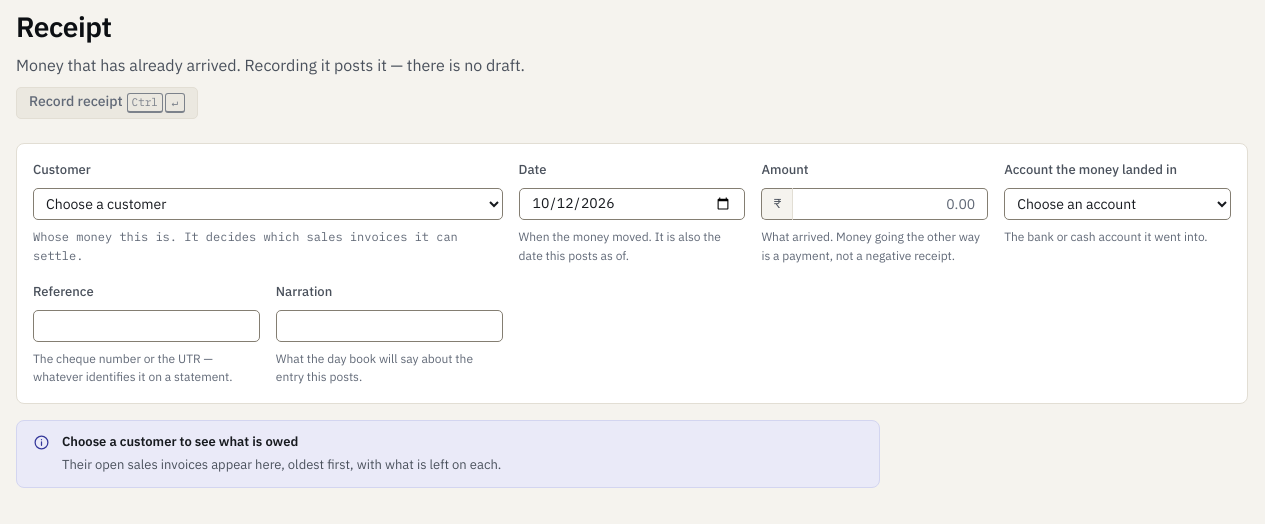
Scenario: recording one › will not record until it knows the customer, the date, the amount and the account
expect the button "Record receipt Ctrl ↵" is disabled: met, box [16,87,198,119]
Select "Sunrise Components" in the dropdown labelled "Customer". click: (268, 204)
box: [33,188,503,220]
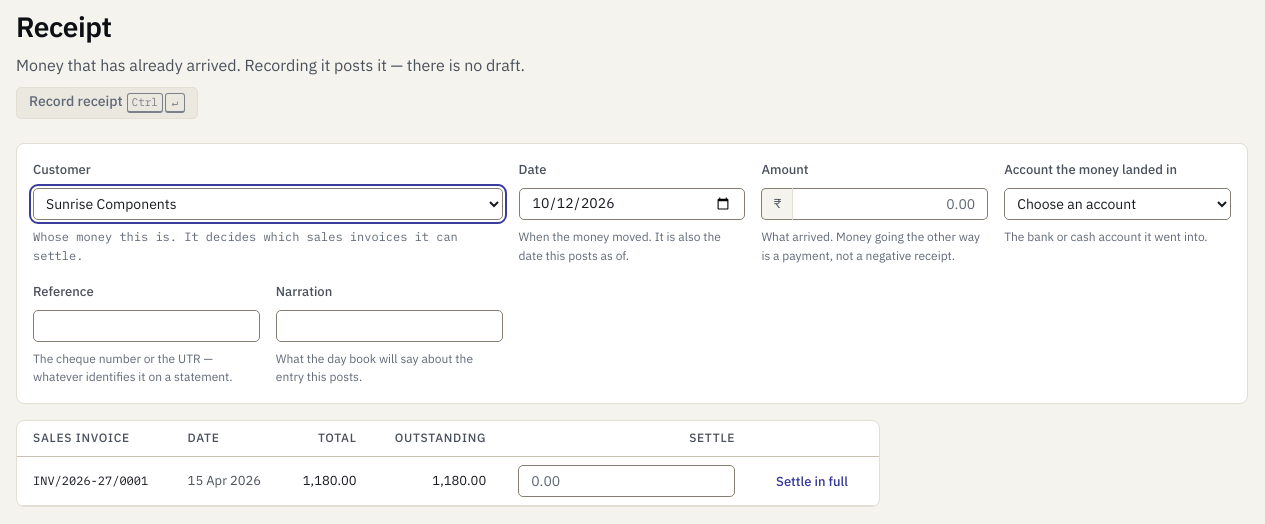
expect the button "Record receipt Ctrl ↵" is disabled: met, box [16,87,198,119]
Clear the date field labelled "Date". click: (632, 204)
box: [519,188,745,220]
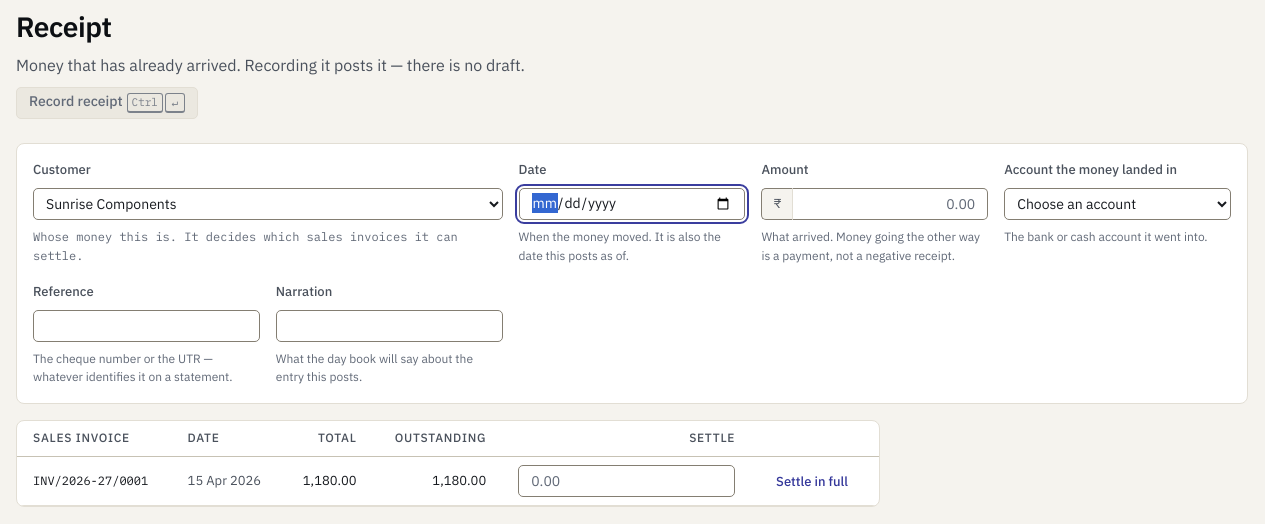
expect the button "Record receipt Ctrl ↵" is disabled: met, box [16,87,198,119]
Type "2026-04-20" into the date field labelled "Date". click: (632, 204)
box: [519,188,745,220]
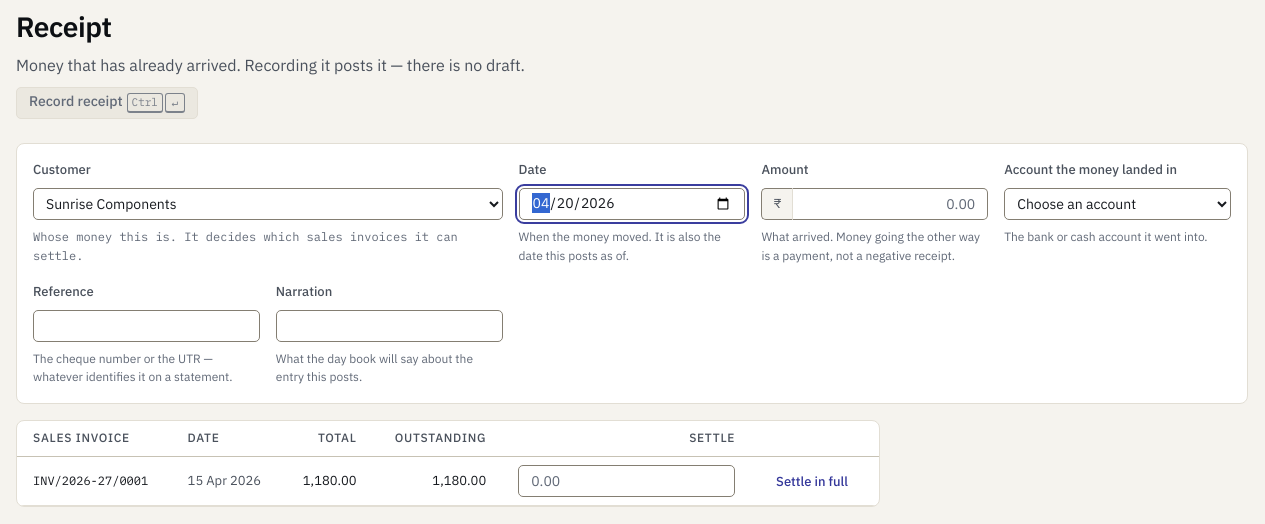
expect the button "Record receipt Ctrl ↵" is disabled: met, box [16,87,198,119]
Type "1180.00" into the field labelled "Amount". click: (891, 204)
box: [793,188,988,220]
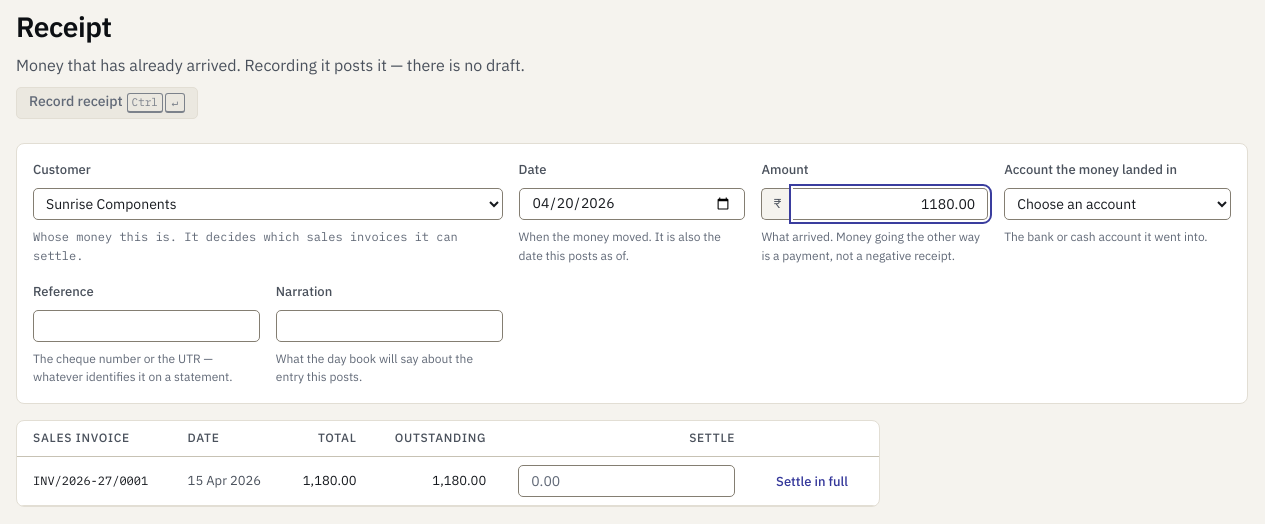
expect the button "Record receipt Ctrl ↵" is disabled: met, box [16,87,198,119]
Select "1210 — Bank Account" in the dropdown labelled "Account the money landed in". click: (1118, 204)
box: [1004,188,1231,220]
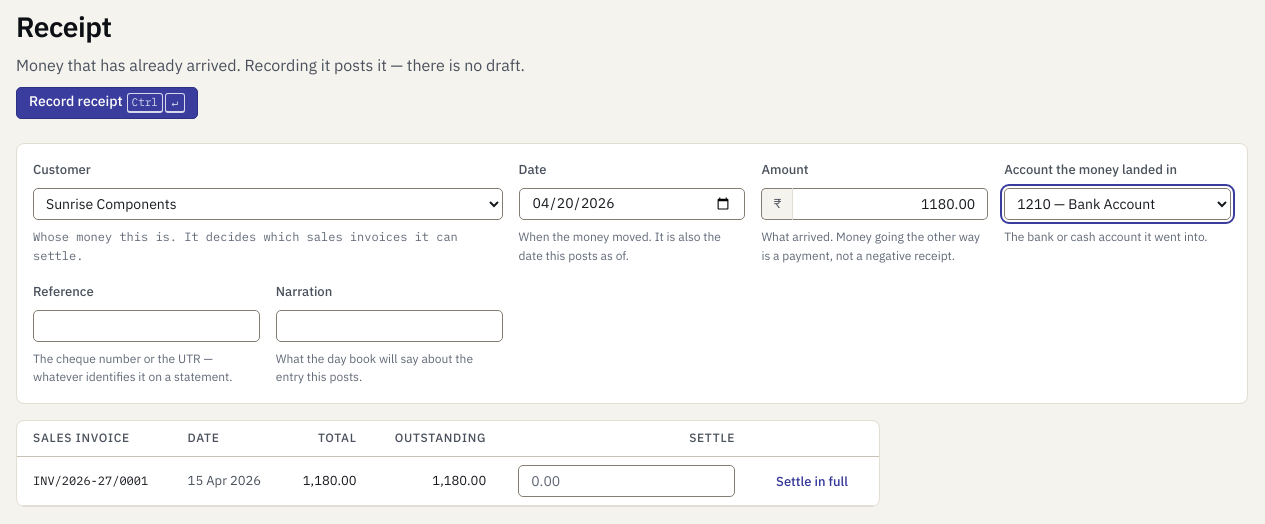
expect the button "Record receipt Ctrl ↵" is enabled: met, box [16,87,198,119]
